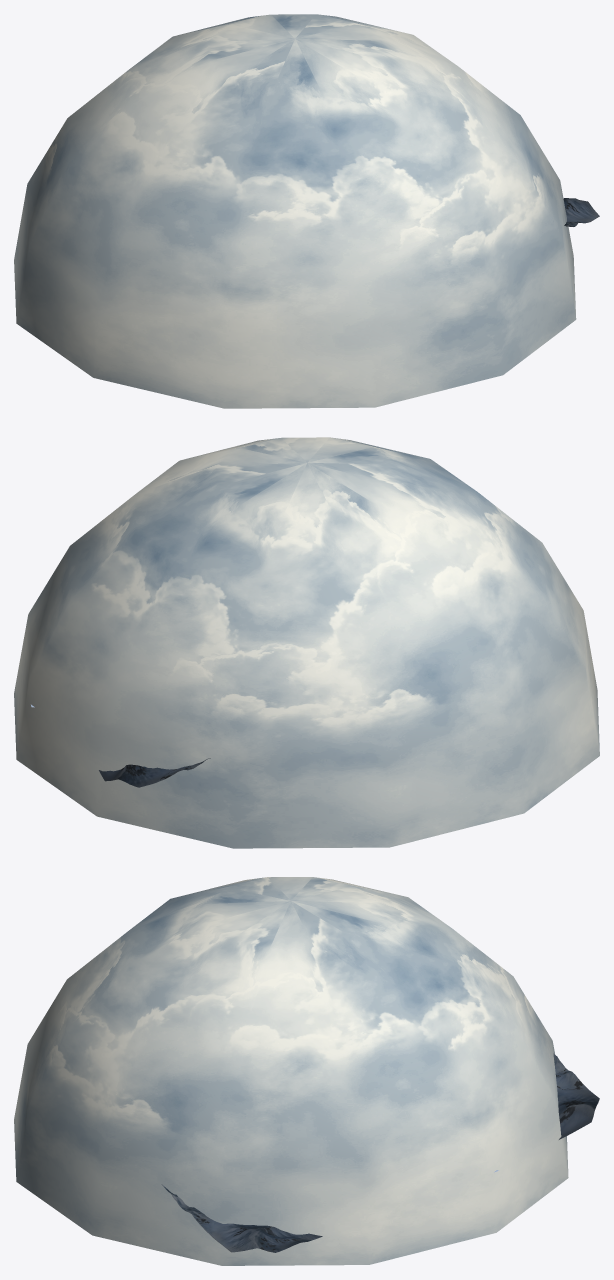
File: env_hoth_snow_plains_01_pre.glb
3 renders of one model, top to bottom at view 1: azimuth 30°, elevation 25°; view 2: azimuth 150°, elevation 25°; view 3: azimuth 270°, elevation 25°, orthographic. The views are drawn at different scales.
Visible parts, largest first — view 1: skybox_01_mesh (1), tb_terrain_hoth_01_mesh; view 2: skybox_01_mesh (1), tb_terrain_hoth_01_mesh; view 3: skybox_01_mesh (1), tb_terrain_hoth_01_mesh.
Part boxes in pixels (x1,y1,x2,y2): skybox_01_mesh (1): (14, 14, 576, 408); tb_terrain_hoth_01_mesh: (563, 198, 599, 226); skybox_01_mesh (1): (14, 437, 599, 848); tb_terrain_hoth_01_mesh: (99, 758, 210, 787); skybox_01_mesh (1): (14, 877, 568, 1265); tb_terrain_hoth_01_mesh: (161, 1053, 599, 1252).
Size of the model in its own units: 570 by 263 by 565.
Materials: 11 (11 with a texture image).
